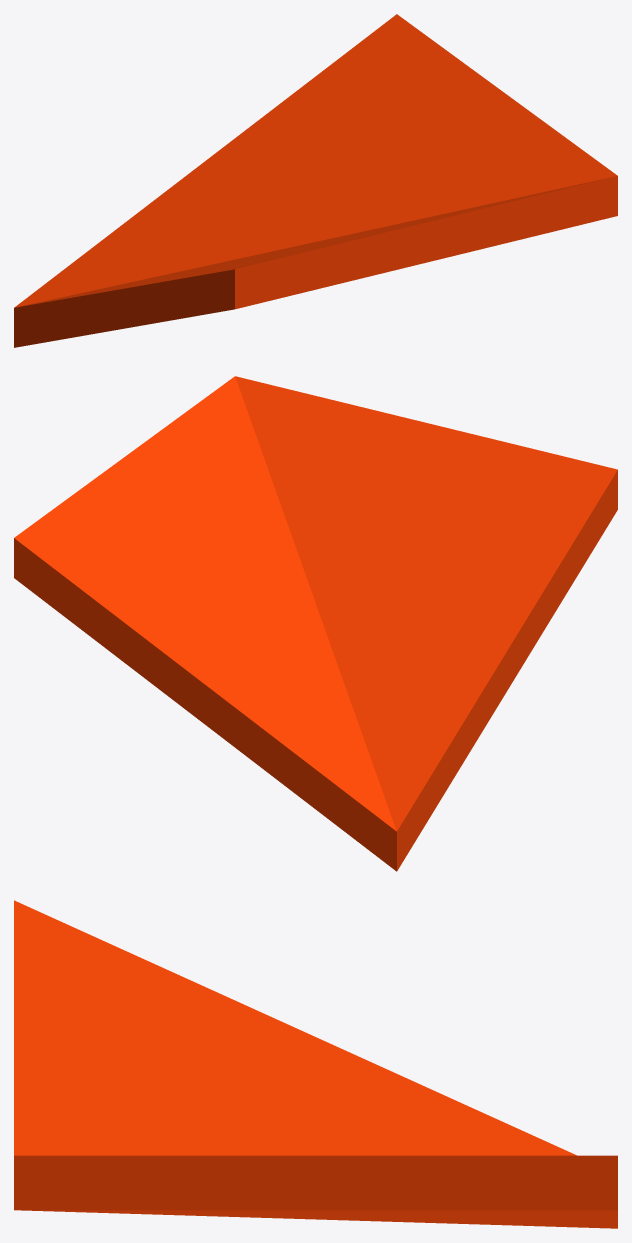
File: roof_small_corner_inner.fbx
The picture shows the model from 3 angles, top to bottom: view 1: azimuth 30°, elevation 25°; view 2: azimuth 150°, elevation 25°; view 3: azimuth 270°, elevation 25°; orthographic projection. The views are drawn at different scales.
Parts seen in each view (by area): view 1: Mesh1_Component_11_1 Model; view 2: Mesh1_Component_11_1 Model; view 3: Mesh1_Component_11_1 Model.
Part boxes in pixels (x1,y1,x2,y2): Mesh1_Component_11_1 Model: (14, 14, 617, 347); Mesh1_Component_11_1 Model: (14, 376, 617, 871); Mesh1_Component_11_1 Model: (14, 900, 617, 1228).
Bounding box in the file's own units: 1 × 0.6 × 1.
